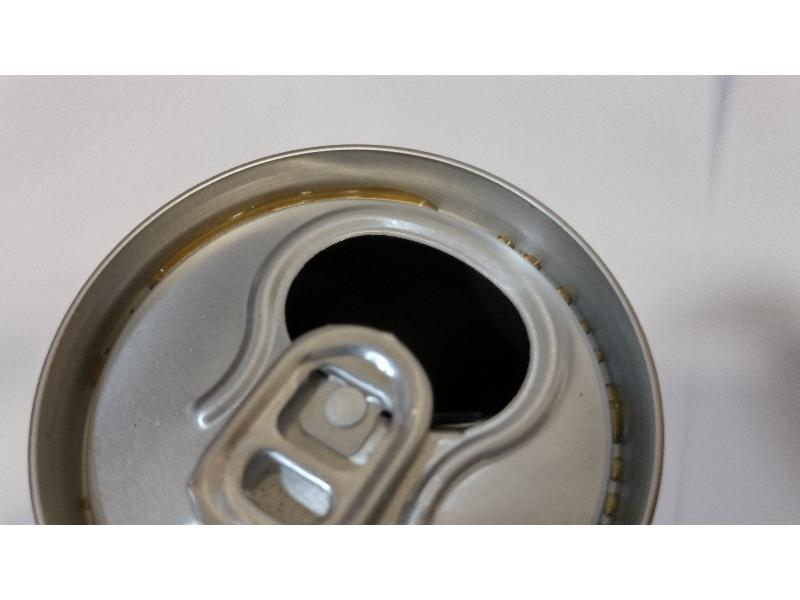can: (20, 134, 681, 522)
